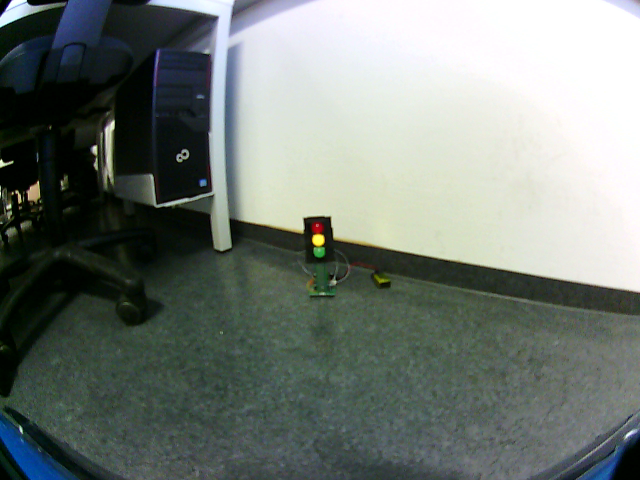yellow trafficlight: (303, 216, 332, 262)
